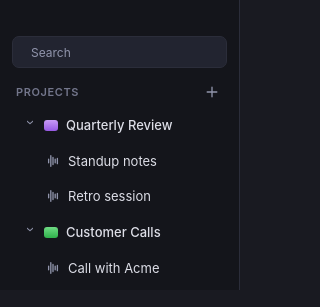
Scenario: Sidebar › filters to projects whose name matches the search query
Type "quarterly" into the search field named "Search projects and recordings".
click(127, 52); type("quarterly")  # box [31,44,223,60]
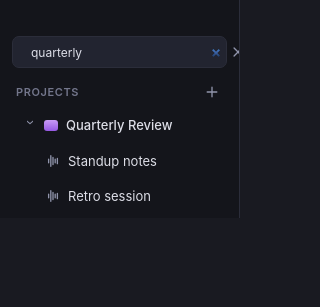
Expected: the text "Quarterly Review" is shown, [66,117,172,133]
Expected: the button "Customer Calls" is gone
